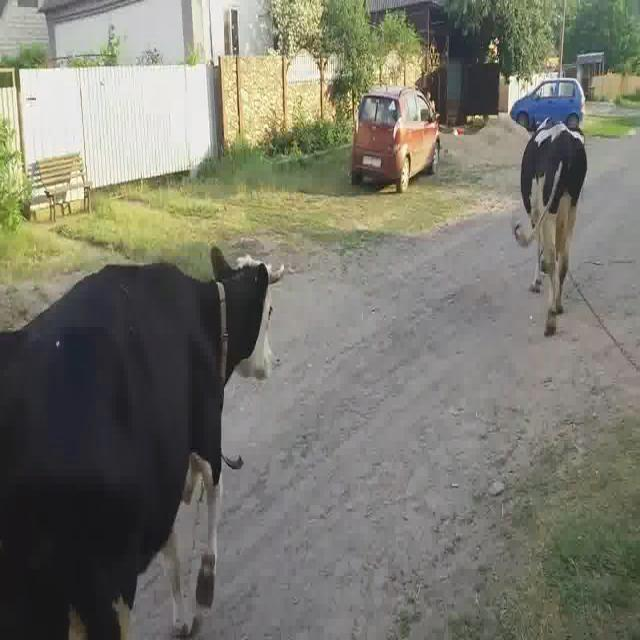cow: (0, 248, 271, 639), (514, 120, 588, 336)
